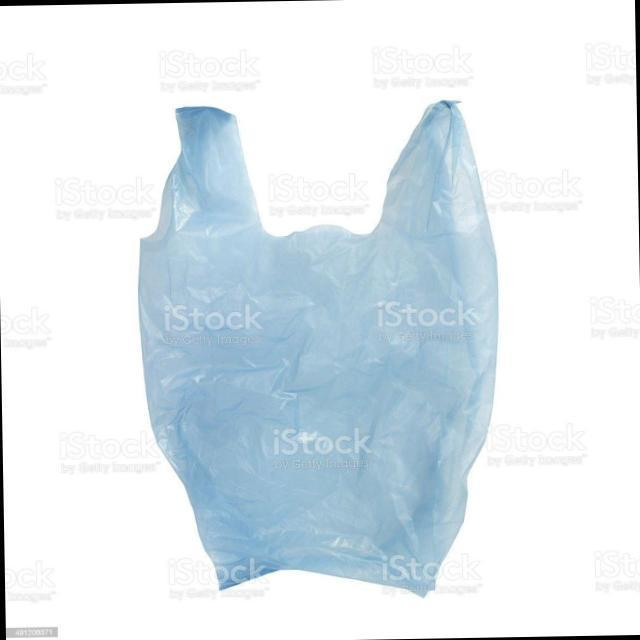Plastic_Bag: (136, 96, 499, 597)
